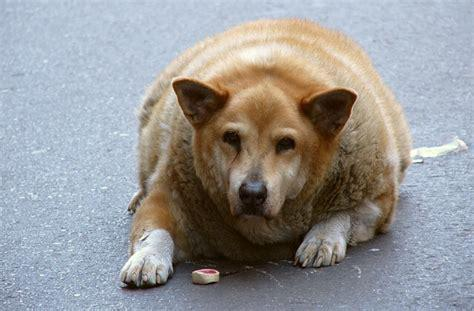dog: (121, 18, 409, 284)
